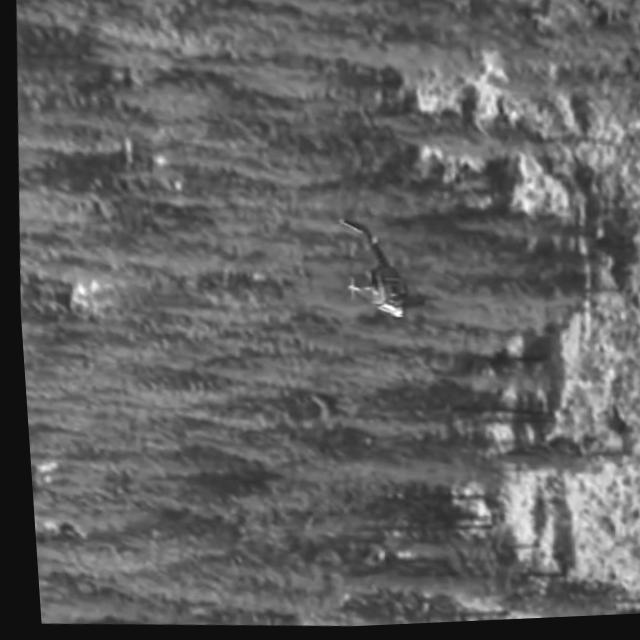helikopter: (309, 190, 427, 339)
